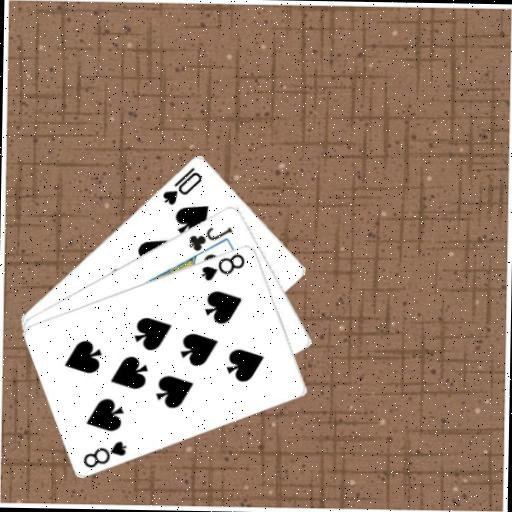10S: (159, 163, 205, 207)
8S: (79, 437, 129, 470), (198, 250, 247, 283)
JC: (185, 222, 235, 253)
